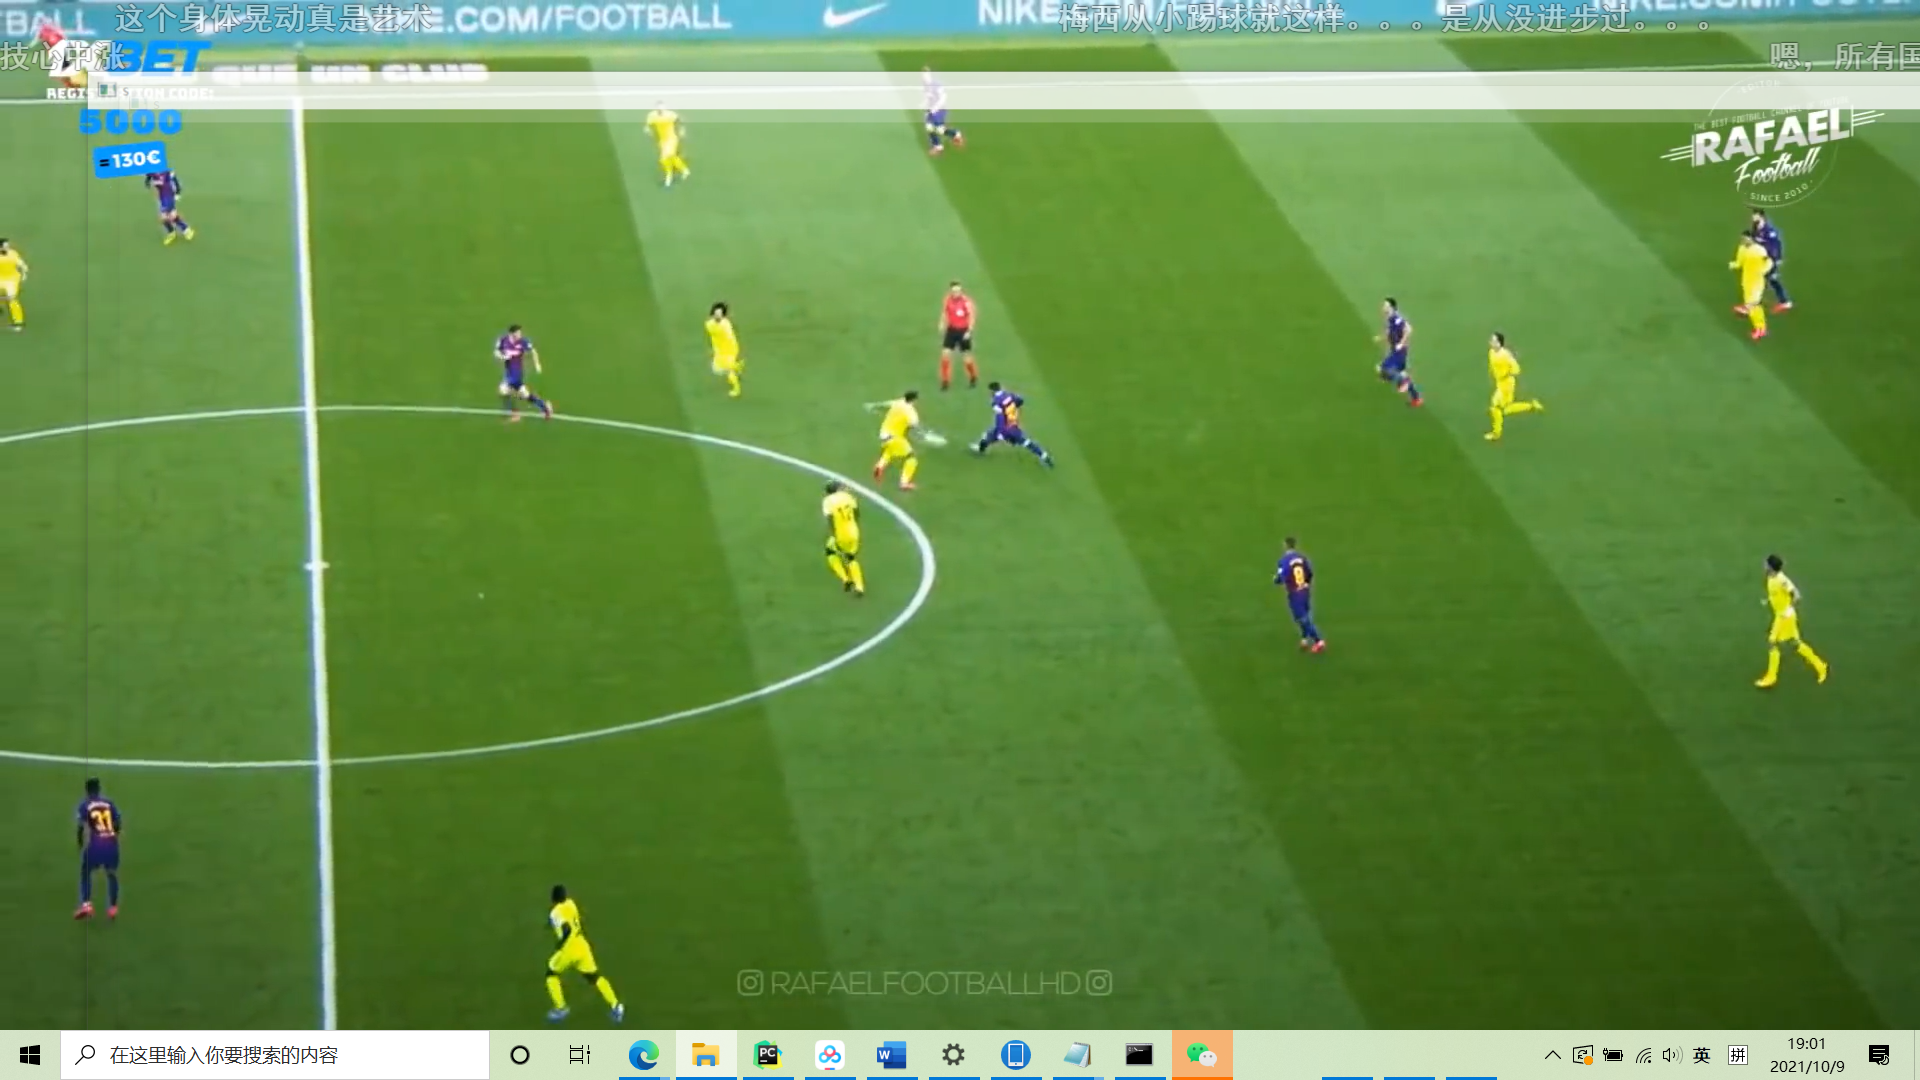ft: (922, 427, 949, 454)
